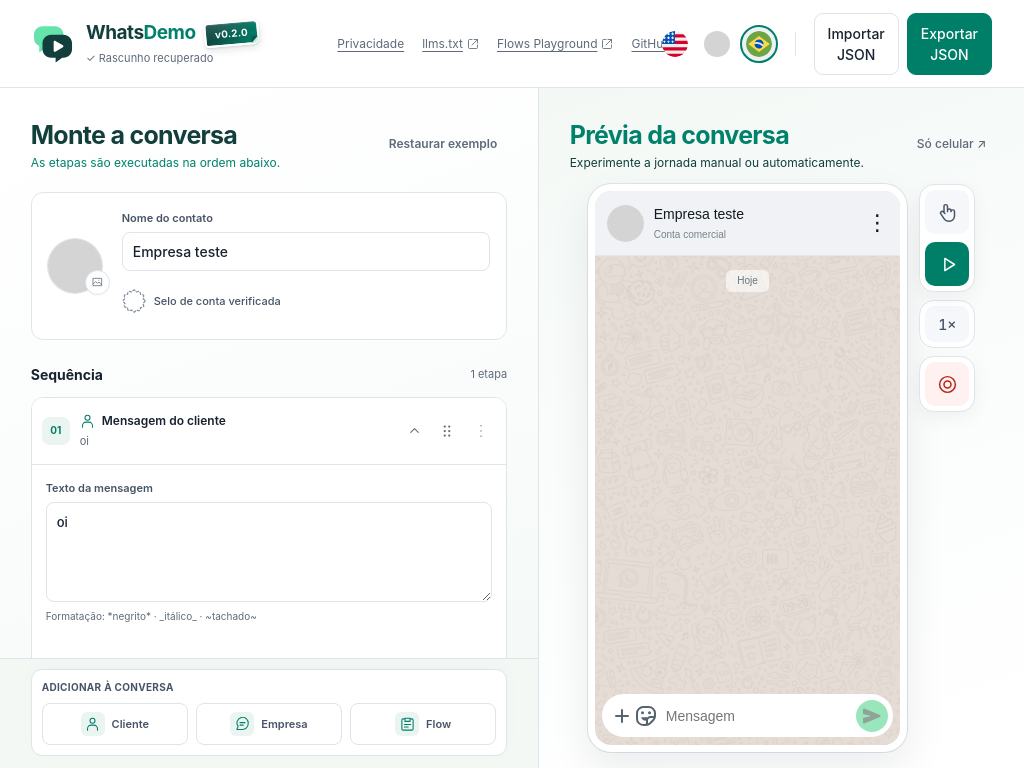
apresenta erros de preparação em um diálogo sem deixar a interface bloqueada
The width and height of the screenshot is (1024, 768).
Click the button named "Gravar celular" at [947, 384], box [925,362,969,406]
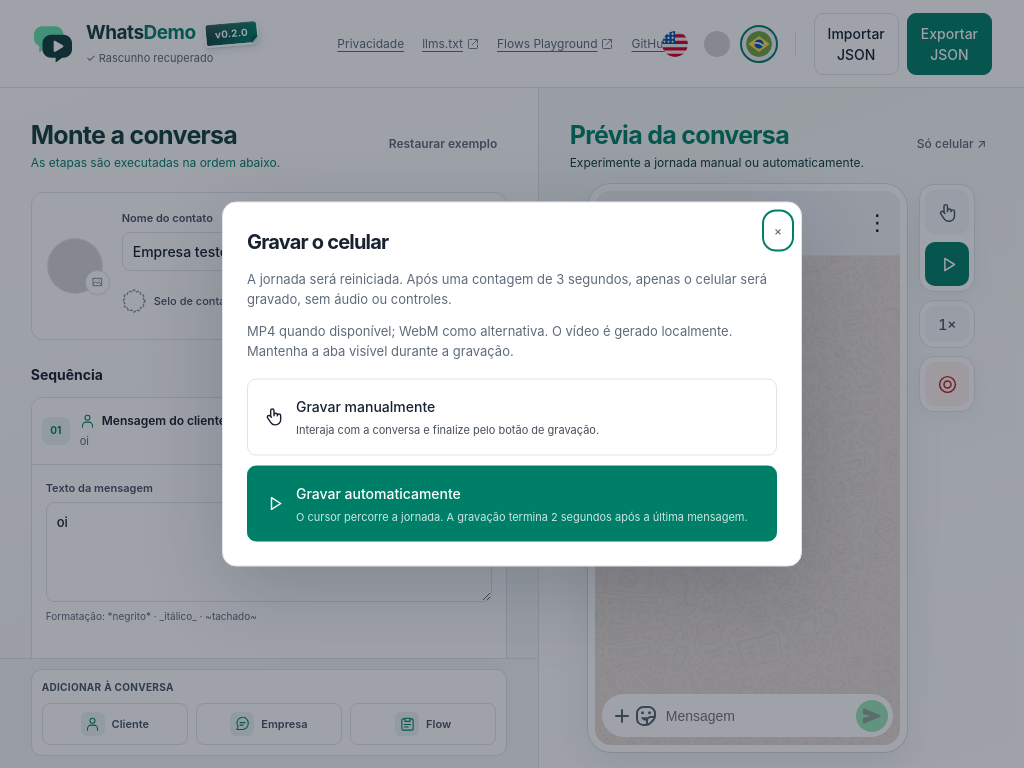
Click the button "Gravar manualmente" at [366, 406], box [247,378,777,455]
Wait 1 ms
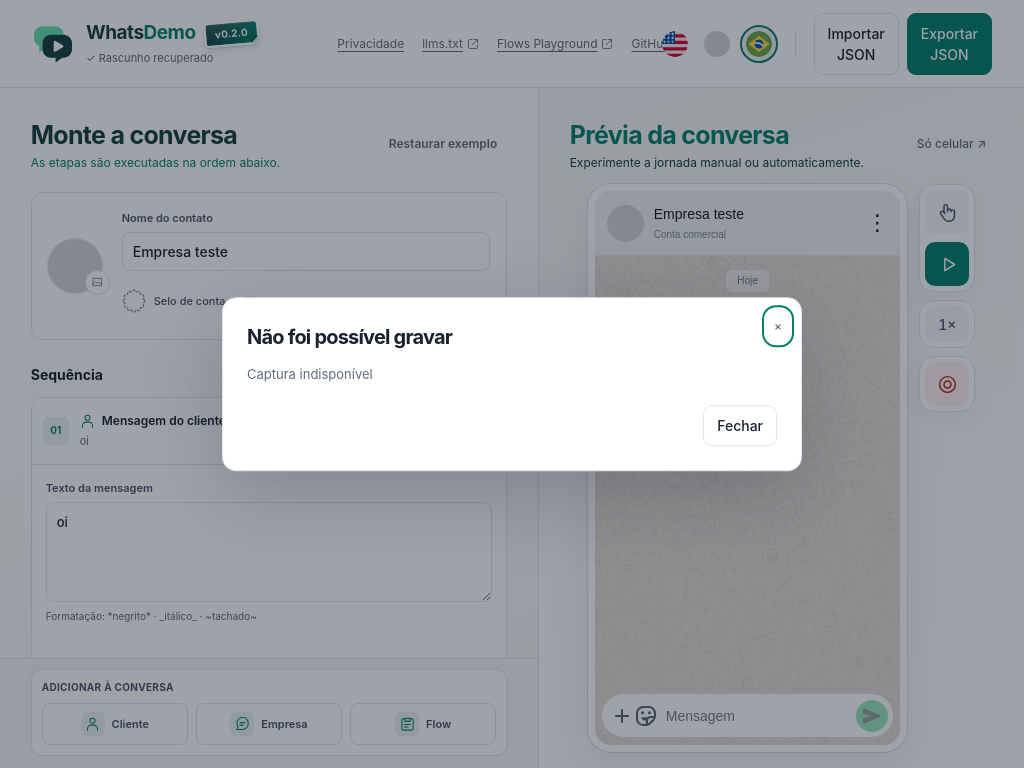
Expected: the dialog "Não foi possível gravar" shows "Captura indisponível", [247,366,373,382]
